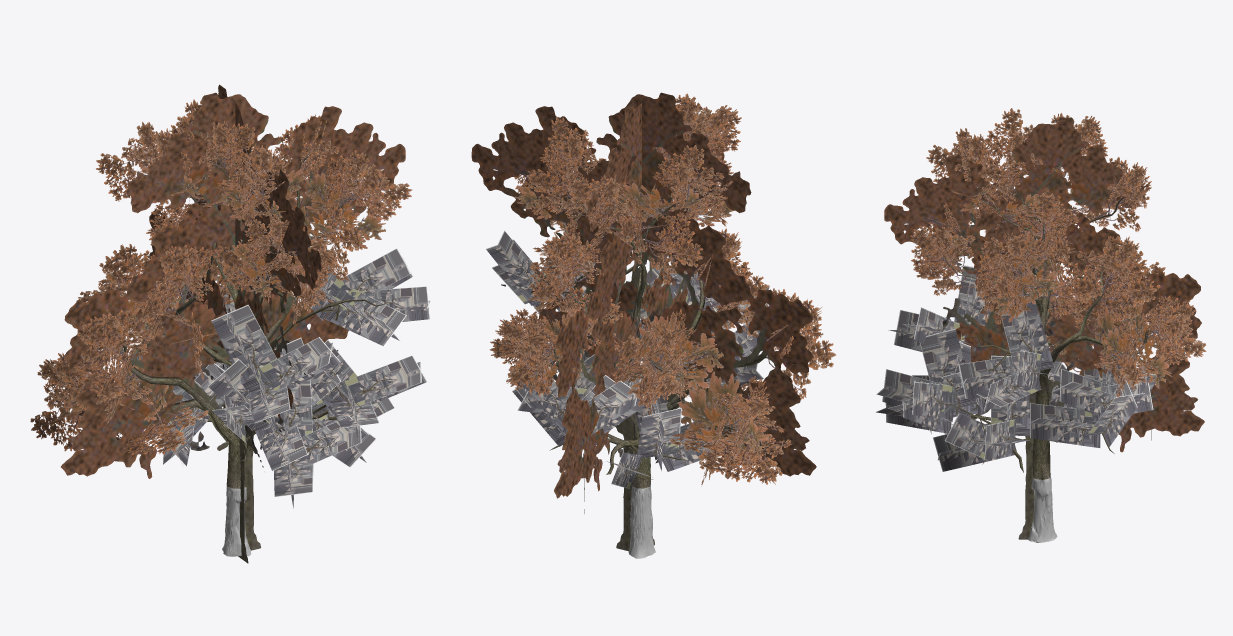
File: Tree-Oak2C.fbx
3 views of the same model, side by side, from view 1: azimuth 30°, elevation 25°; view 2: azimuth 150°, elevation 25°; view 3: azimuth 270°, elevation 25° (orthographic). The views are drawn at different scales.
Parts seen in each view (by area): view 1: Tree-Oak2C_LOD0, Billboard-Oak2C; view 2: Tree-Oak2C_LOD0, Billboard-Oak2C; view 3: Tree-Oak2C_LOD0, Billboard-Oak2C.
Part boxes in pixels (left/top/right/bottom): Tree-Oak2C_LOD0: left=30, top=99, right=430, bottom=556; Billboard-Oak2C: left=61, top=84, right=405, bottom=563; Tree-Oak2C_LOD0: left=486, top=93, right=835, bottom=558; Billboard-Oak2C: left=471, top=92, right=816, bottom=551; Tree-Oak2C_LOD0: left=876, top=108, right=1206, bottom=542; Billboard-Oak2C: left=884, top=117, right=1204, bottom=539.
Size of what is drawn, in the model's own units: 2650 by 3256 by 2302.
